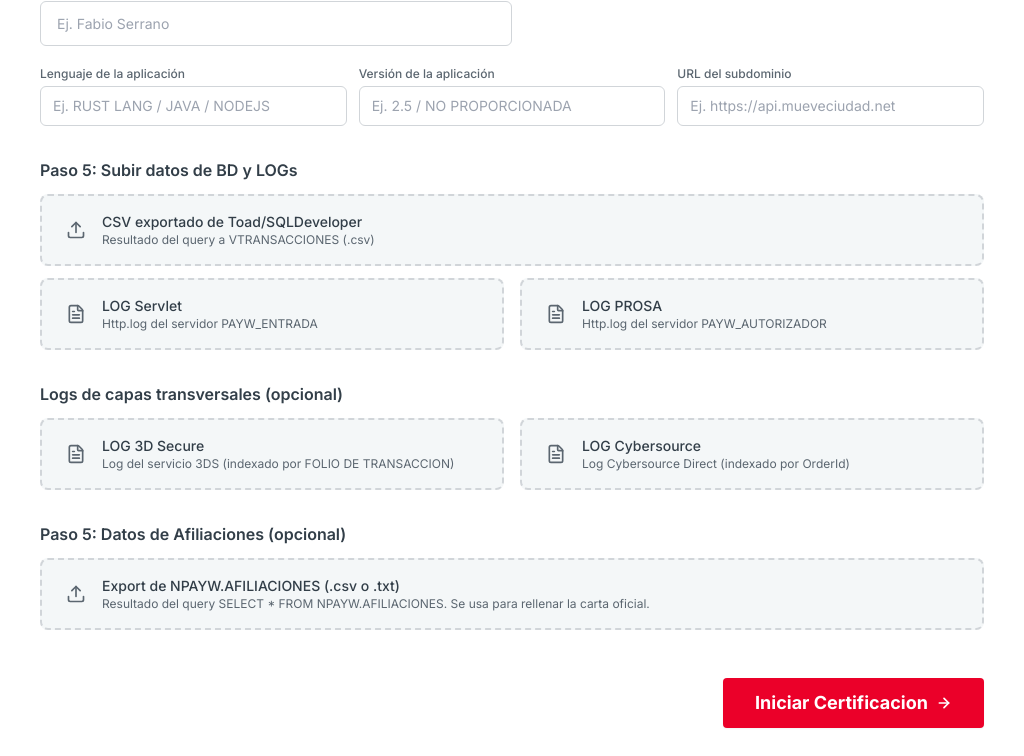
Test case: UploadCard › Validación de campos requeridos › muestra error si no se sube matriz
(page scrolled)
Click the button with test id "submit-certification" at point(854, 702), box [723,678,984,728]
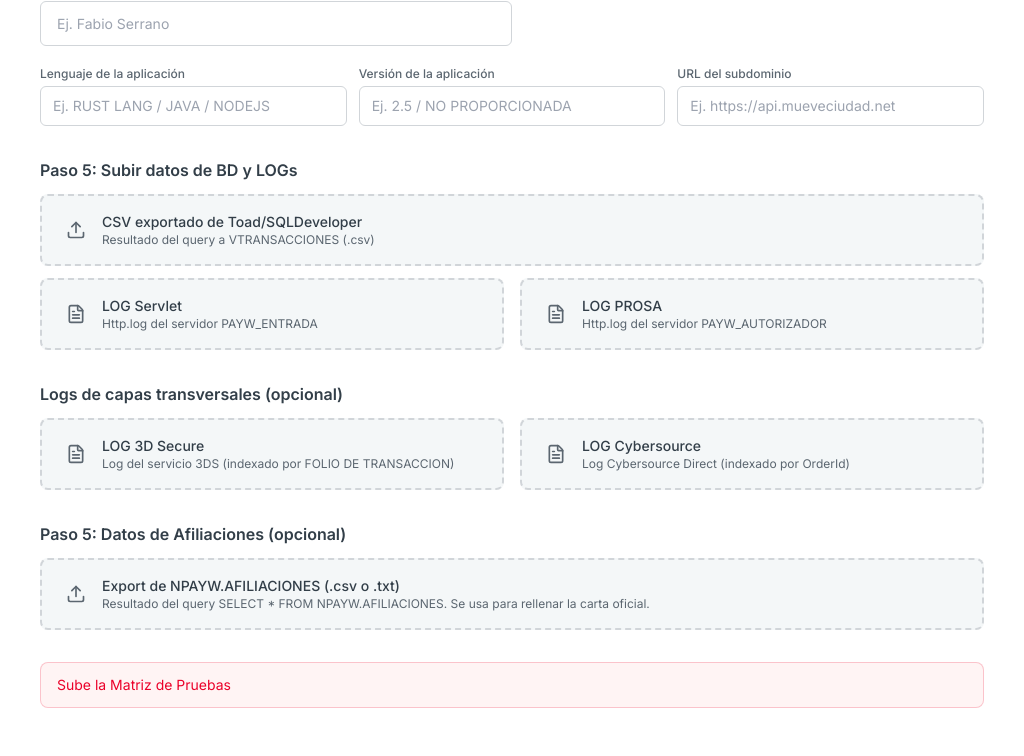
Now the text "Sube la Matriz de Pruebas" is shown, box [40,662,984,708]
